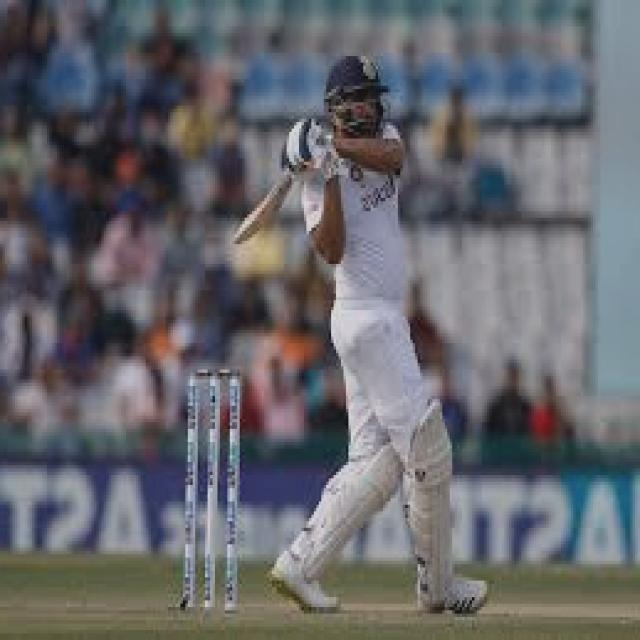toe: (229, 216, 262, 254)
